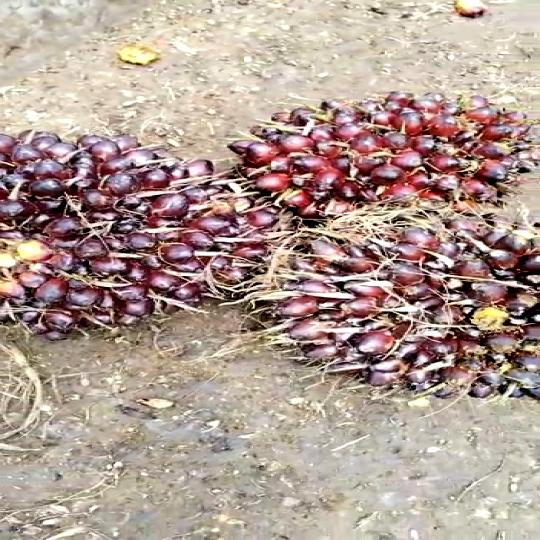kurang masak: (221, 197, 540, 414), (0, 130, 277, 338), (210, 90, 512, 251)
